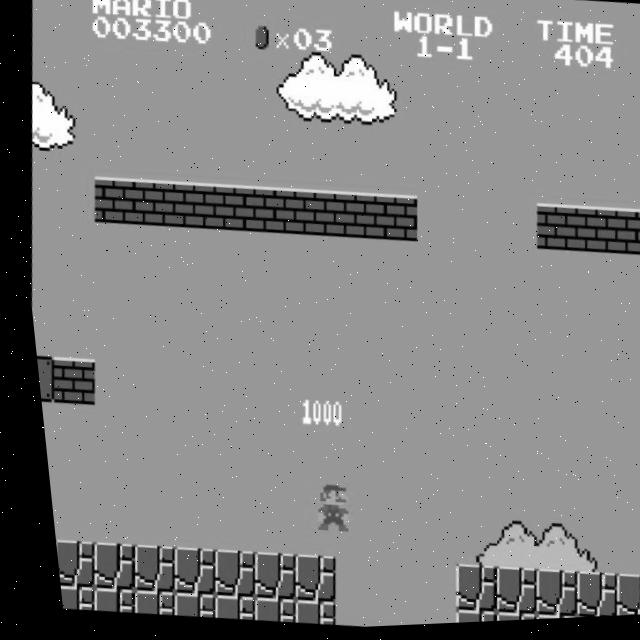1- brick_block: (41, 355, 91, 407), (86, 175, 135, 226), (166, 181, 215, 232), (286, 189, 335, 240), (367, 195, 416, 246), (527, 206, 576, 257), (567, 209, 616, 260), (126, 179, 175, 229), (206, 184, 255, 234), (246, 187, 295, 237), (326, 193, 375, 243), (607, 212, 640, 262)
17- undestructible_block: (437, 566, 488, 617), (76, 540, 126, 592), (117, 543, 167, 595), (157, 546, 207, 598), (277, 554, 327, 606), (478, 568, 528, 620), (518, 571, 568, 623), (197, 549, 247, 600), (237, 552, 287, 603), (557, 574, 607, 622), (44, 538, 86, 589), (598, 576, 640, 621), (199, 594, 244, 623), (279, 600, 324, 629), (118, 589, 164, 617), (238, 597, 284, 625), (78, 586, 123, 614), (158, 592, 203, 620), (48, 583, 83, 611), (439, 611, 483, 626), (479, 614, 523, 625), (519, 616, 562, 624), (638, 580, 640, 619)
3- empty_block: (29, 353, 49, 402)
